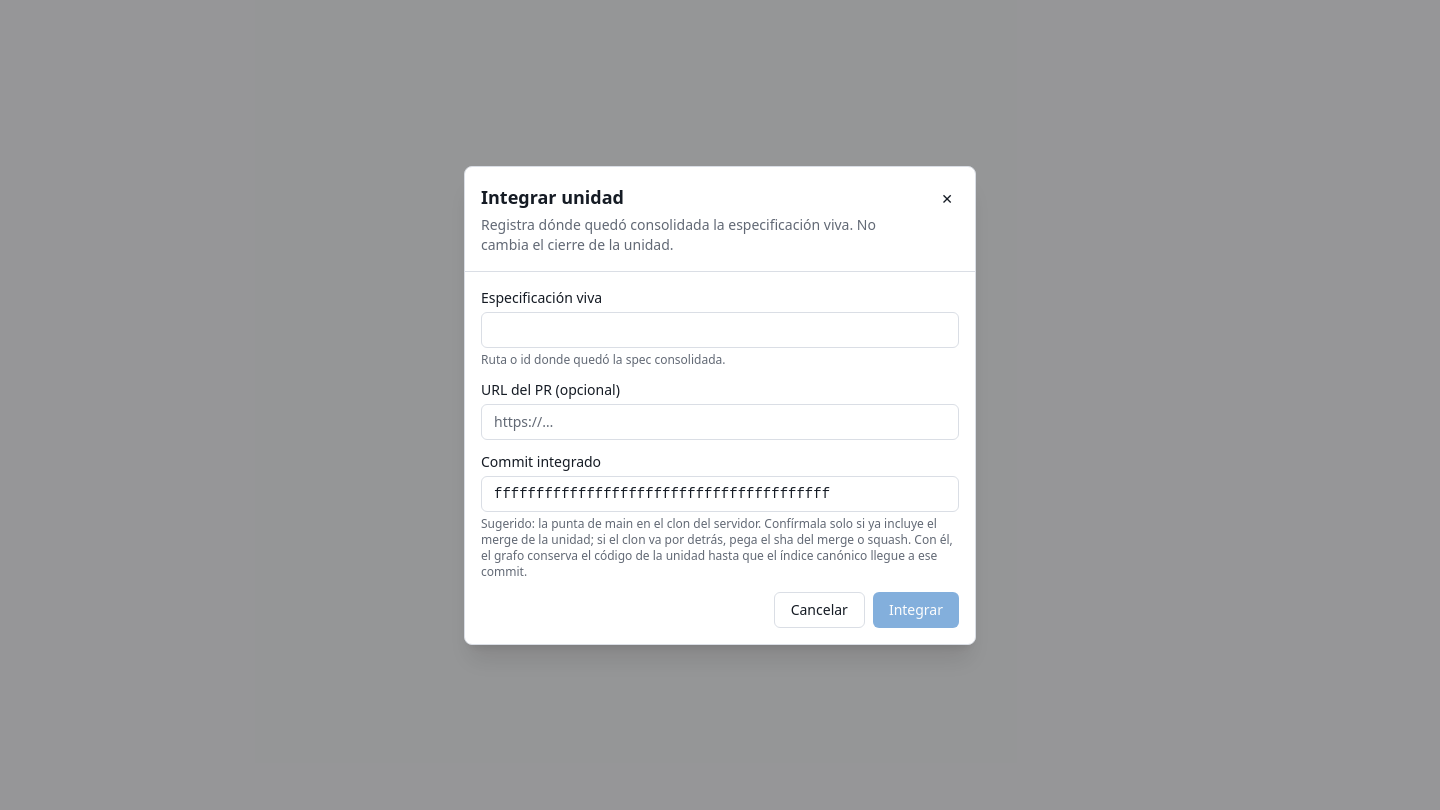
Test: diálogo de integrar › pide la especificación viva y no envía nada sin ella
This screenshot has width=1440, height=810.
Expected: the dialog "Integrar unidad" is shown, [464,166,976,644]
Expected: the button "Integrar" is disabled, [873,592,959,628]
Step 1. Type "specs/pdf.md" into the field labelled "Especificación viva" → (720, 330), box [481,312,959,348]
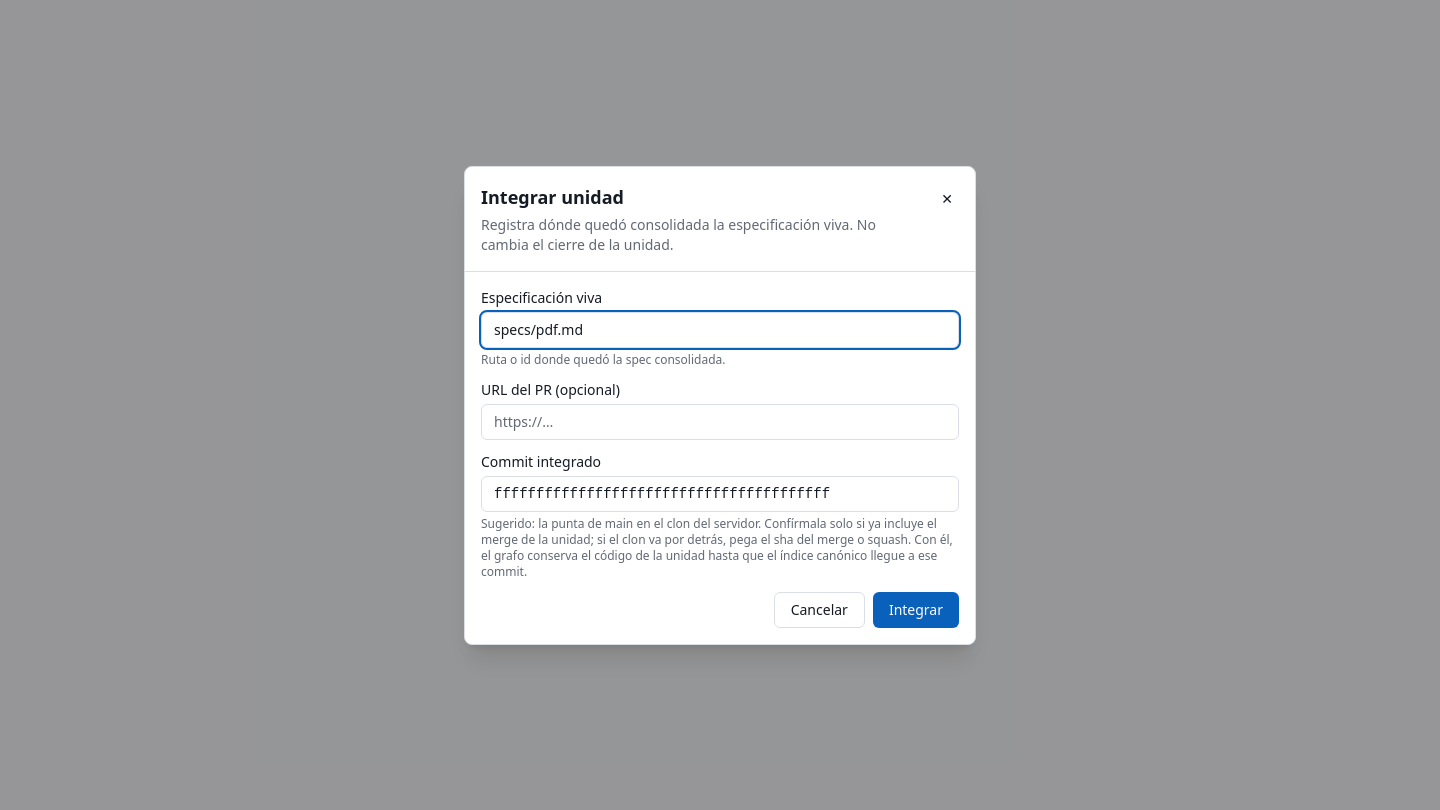
Now the button "Integrar" is enabled, box [873,592,959,628]
